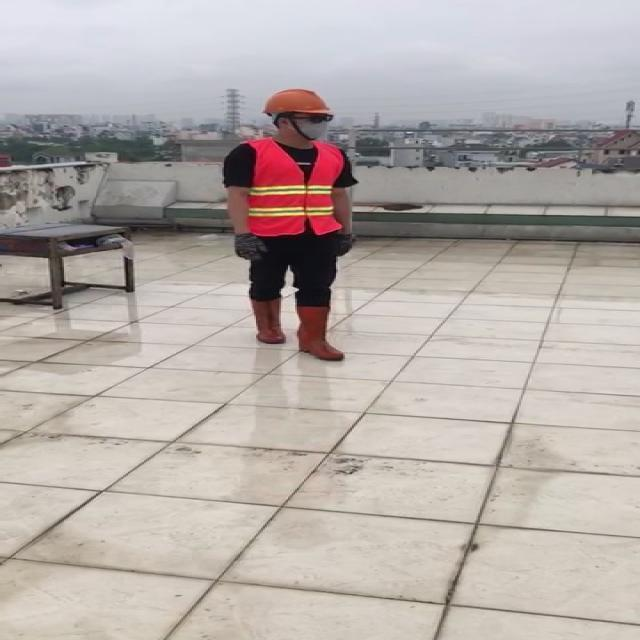gloves: (231, 230, 268, 262), (325, 232, 355, 257)
goggles: (291, 114, 336, 123)
helmet: (259, 87, 336, 118)
safety_vest: (247, 139, 345, 236)
